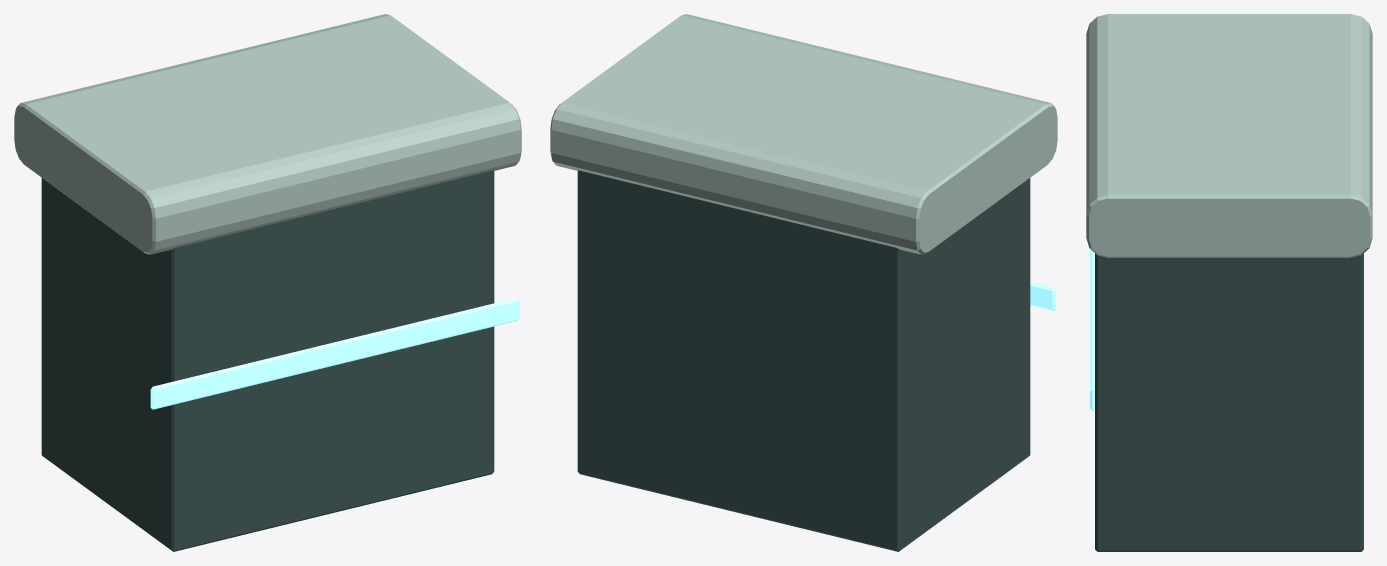
Rendered from Bridge_Deck.gltf.
3 renders of one model, left to right at view 1: azimuth 30°, elevation 25°; view 2: azimuth 150°, elevation 25°; view 3: azimuth 270°, elevation 25°, orthographic.
Parts seen in each view (by area): view 1: Bridge_Deck_baked; view 2: Bridge_Deck_baked; view 3: Bridge_Deck_baked.
Boxes of the visible parts, x1,y1,x2,y2 form: Bridge_Deck_baked: [14, 14, 521, 551]; Bridge_Deck_baked: [550, 14, 1057, 551]; Bridge_Deck_baked: [1086, 14, 1372, 551].
Size of the model in its own units: 1 by 0.9375 by 0.66.
